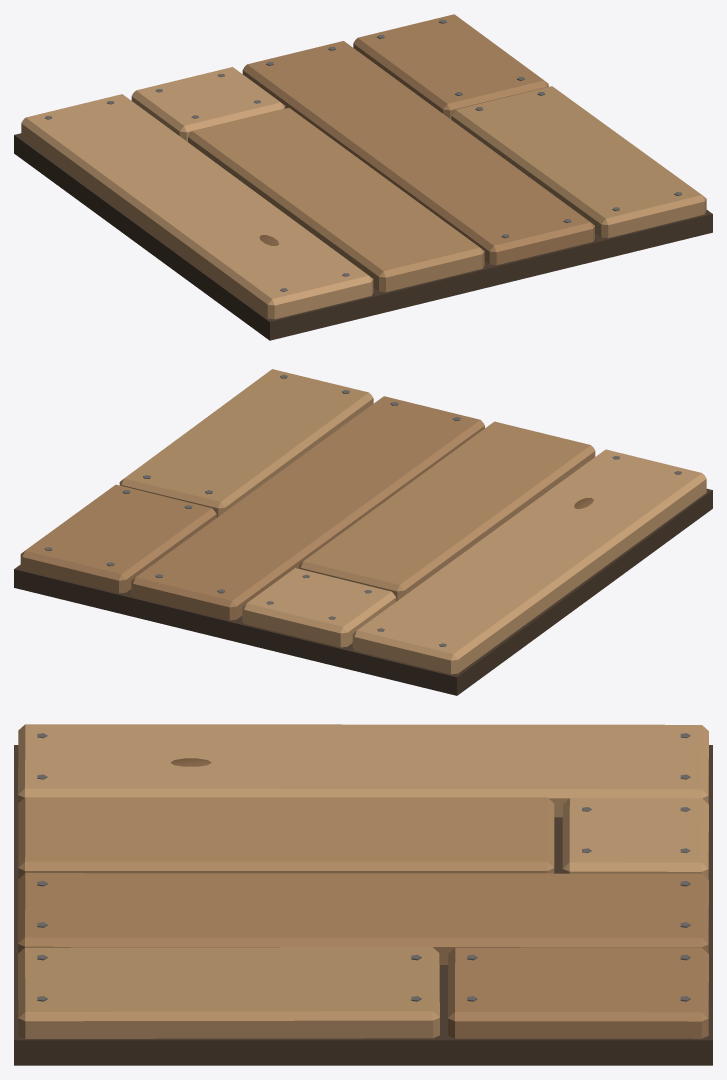
The model's file is floor_1.glb.
The picture shows the model from 3 angles, top to bottom: view 1: azimuth 30°, elevation 25°; view 2: azimuth 150°, elevation 25°; view 3: azimuth 270°, elevation 25°; orthographic projection. The views are drawn at different scales.
Visible parts, largest first — view 1: floor_1; view 2: floor_1; view 3: floor_1.
Part boxes in pixels (x1,y1,x2,y2): floor_1: [14, 14, 712, 340]; floor_1: [14, 369, 712, 695]; floor_1: [14, 724, 712, 1065].
Size of the model in its own units: 1 by 0.0816 by 1.
